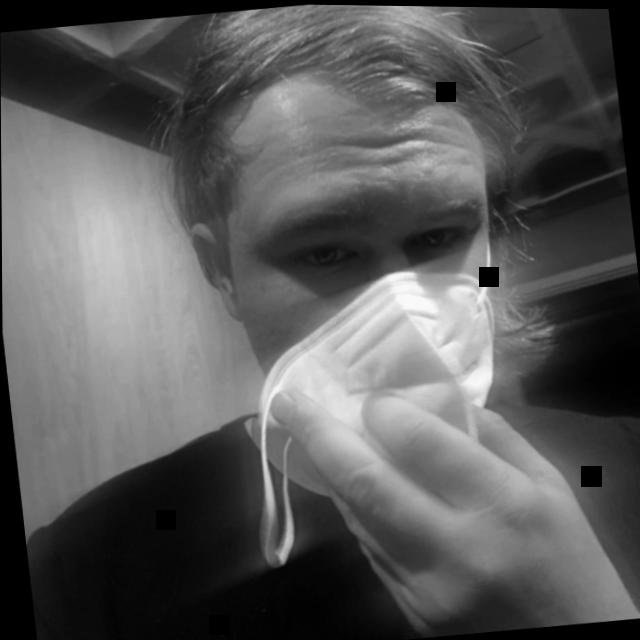Mask: (133, 2, 593, 563)
